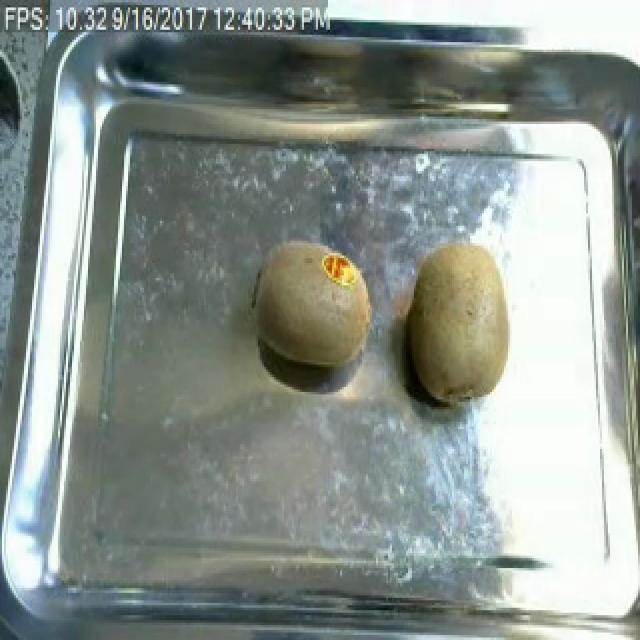Fruit: (398, 233, 520, 412), (246, 233, 382, 377)
